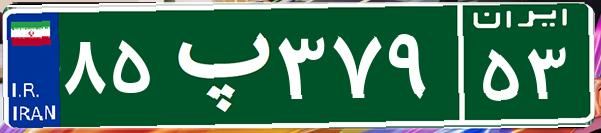3: (273, 28, 330, 110), (525, 38, 570, 115)
5: (475, 38, 525, 113), (110, 28, 158, 105)
7: (330, 28, 385, 110)
8: (57, 26, 110, 107)
9: (385, 28, 445, 110)
پ: (158, 15, 273, 115)
